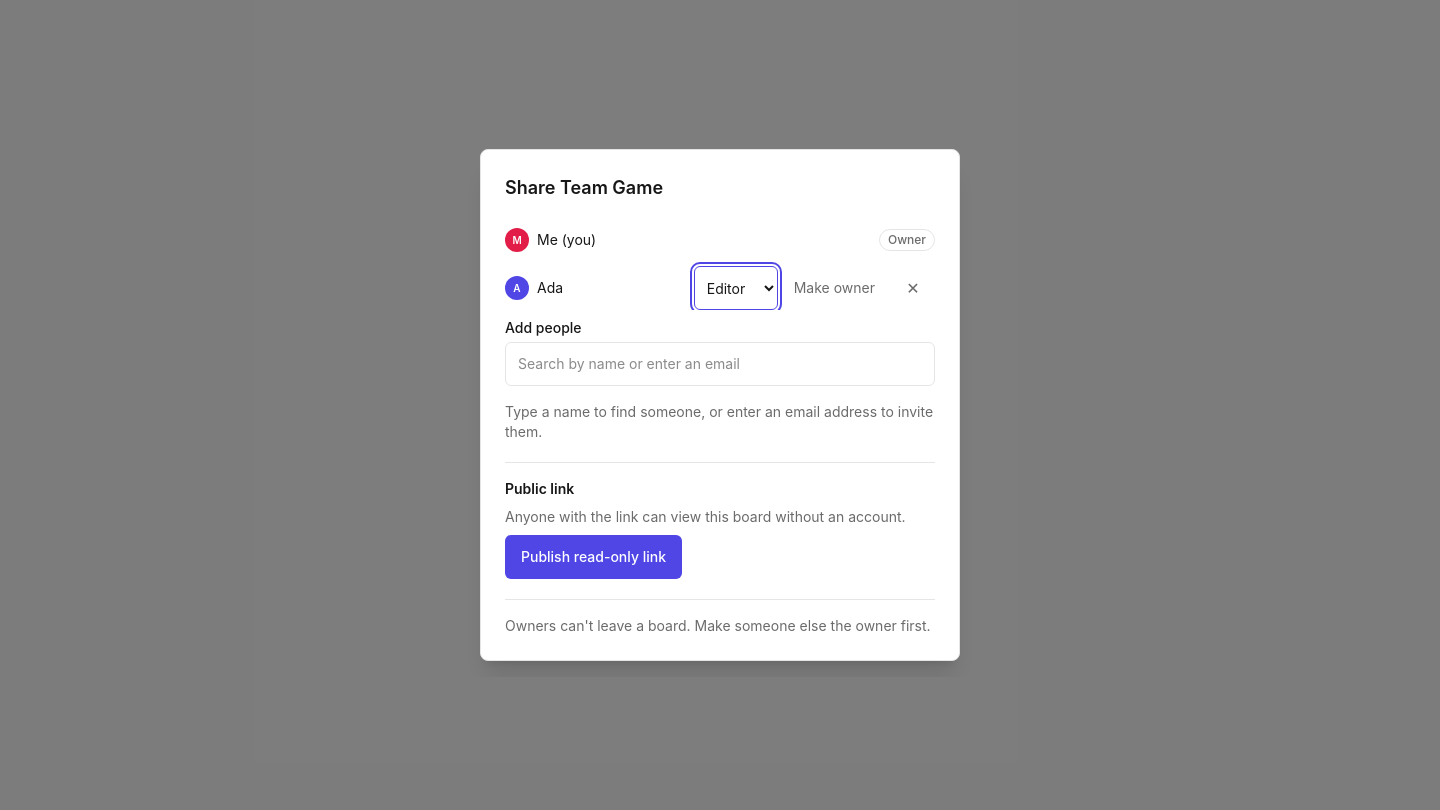
Test: ProjectMembersModal › confirming PUTs the new owner and reveals the leave button
Click the button with aria-label "Make owner: Ada" at point(834, 288), box 786,266 -> 883,310
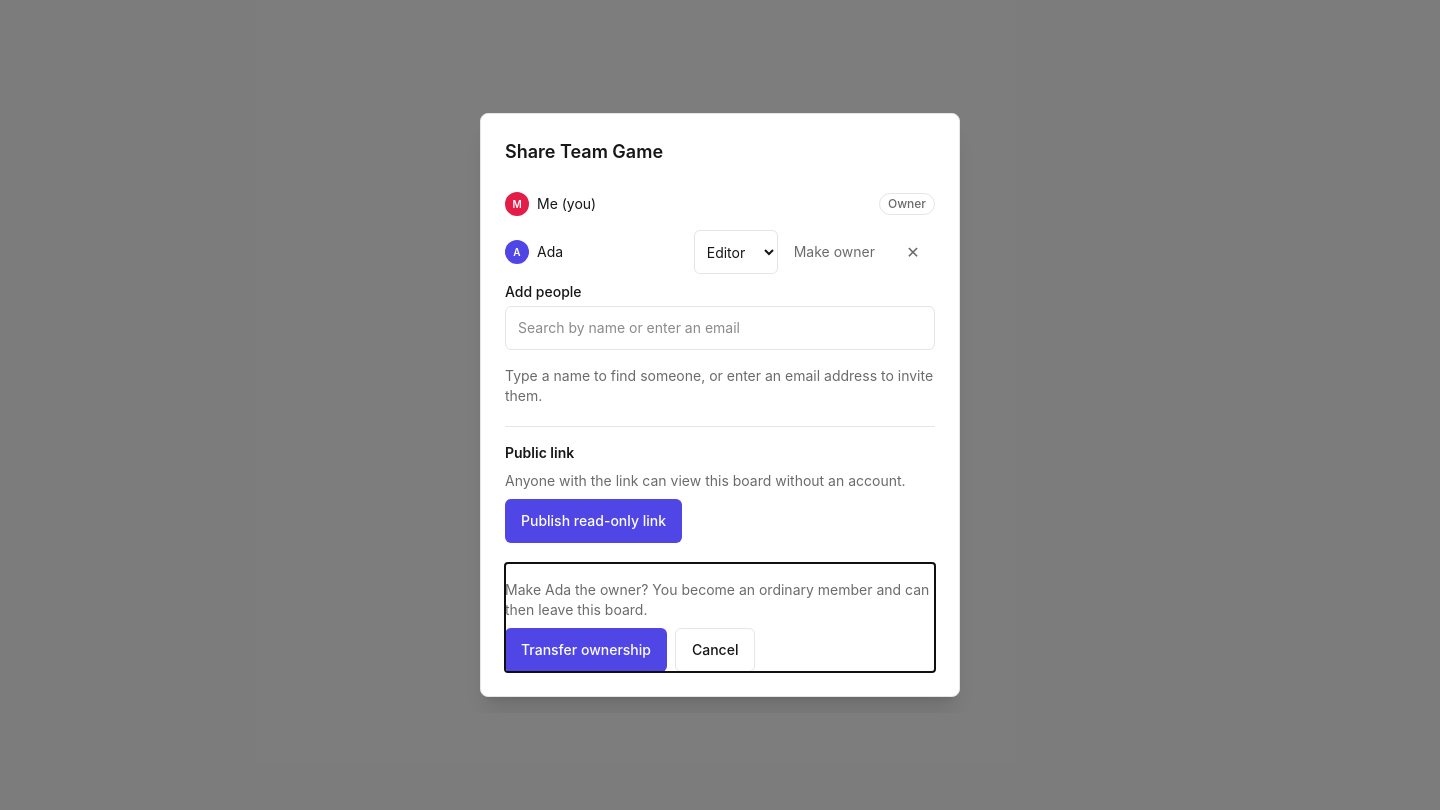
Click the button "Transfer ownership" at point(586, 650), box 505,628 -> 667,672
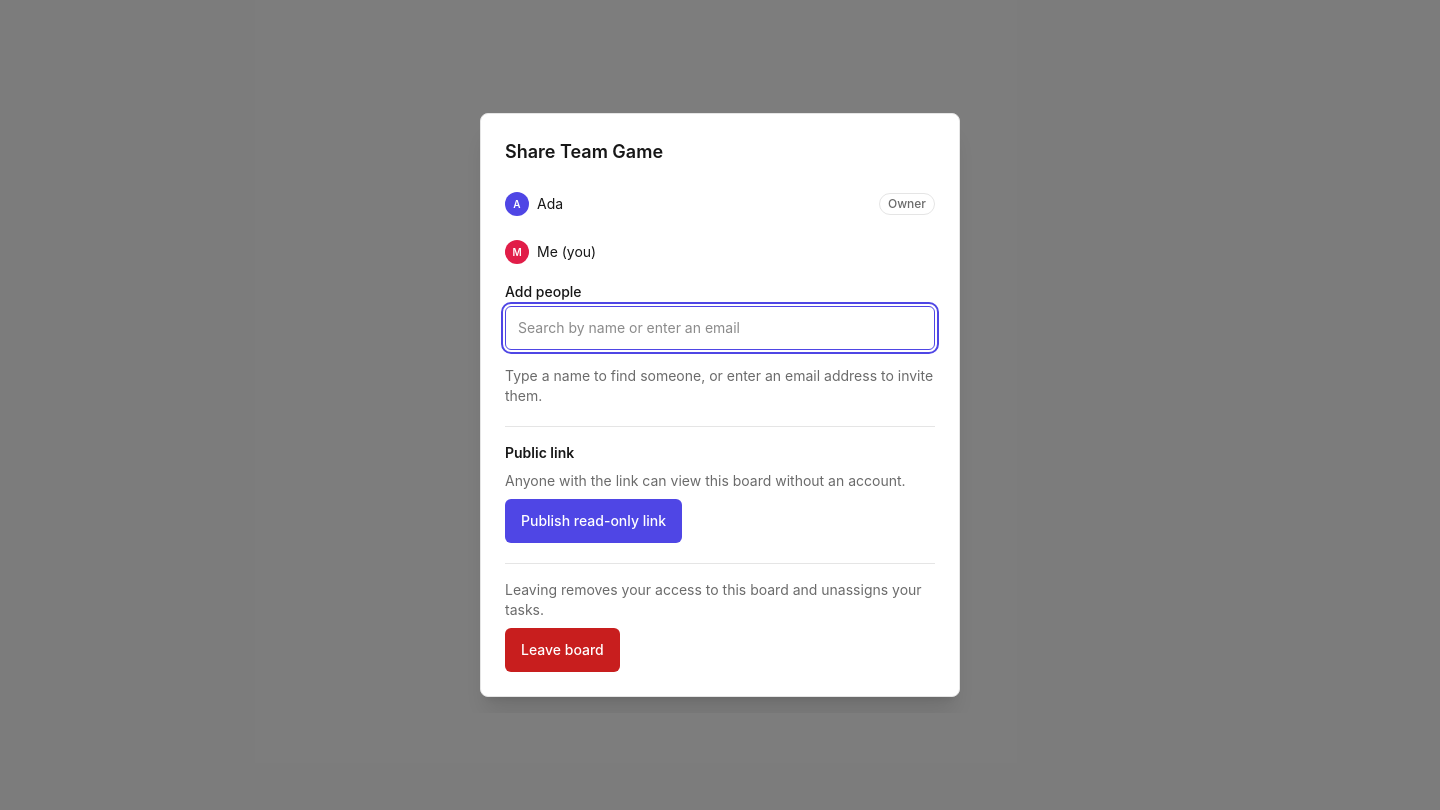
Expected: the text "Owners can't leave a board. Make someone else the owner first." is not shown
Result: the button "Leave board" is shown at 505,628 -> 620,672
